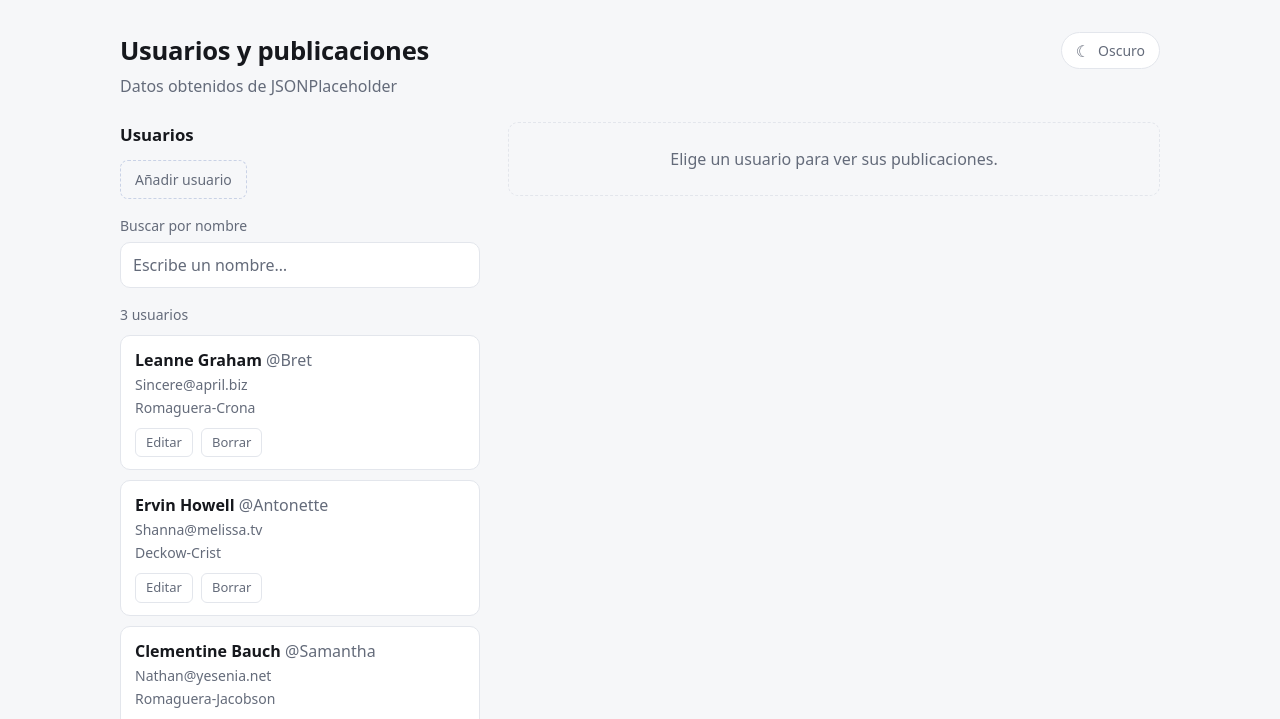
Test: App › conserva lo escrito y avisa si falla la creación
The image size is (1280, 719).
Click the button with aria-label "ver publicaciones de leanne graham" at (198, 360), box [135,348,465,418]
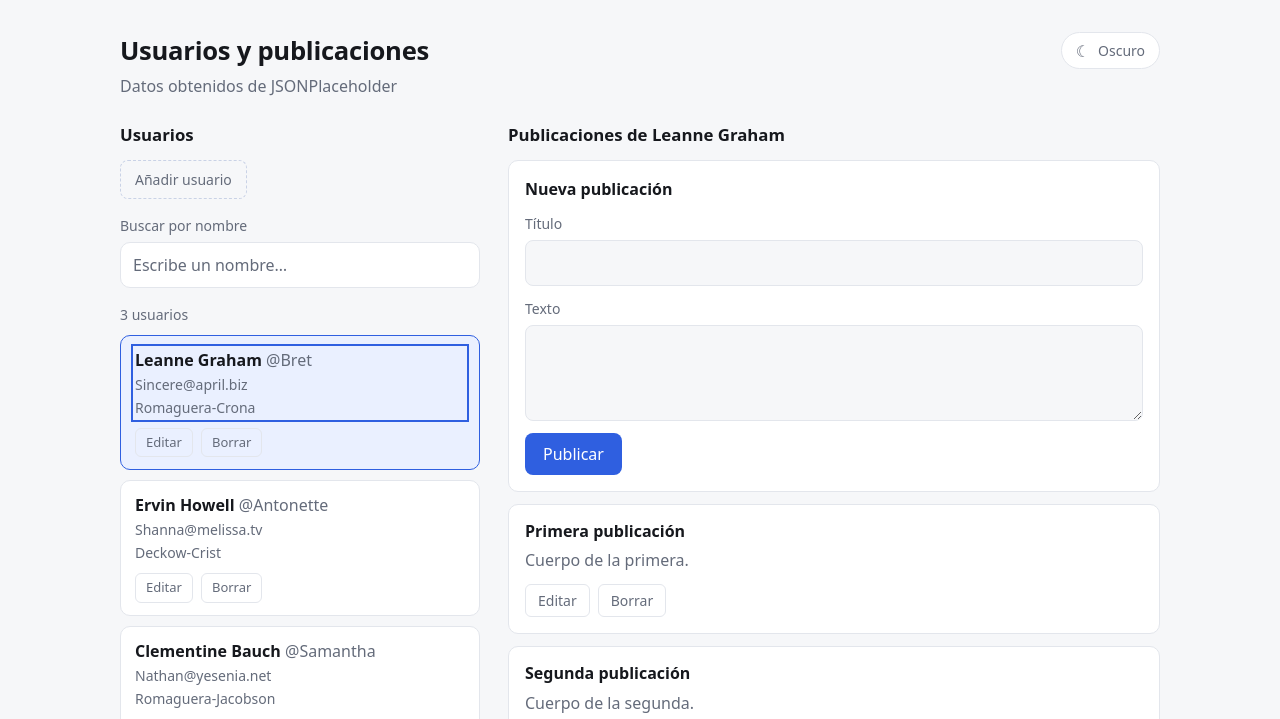
Check: the heading "Primera publicación" is shown, box [525,520,685,542]
Type "No se va a guardar" into the field labelled "Título" at (834, 263), box [525,240,1143,286]
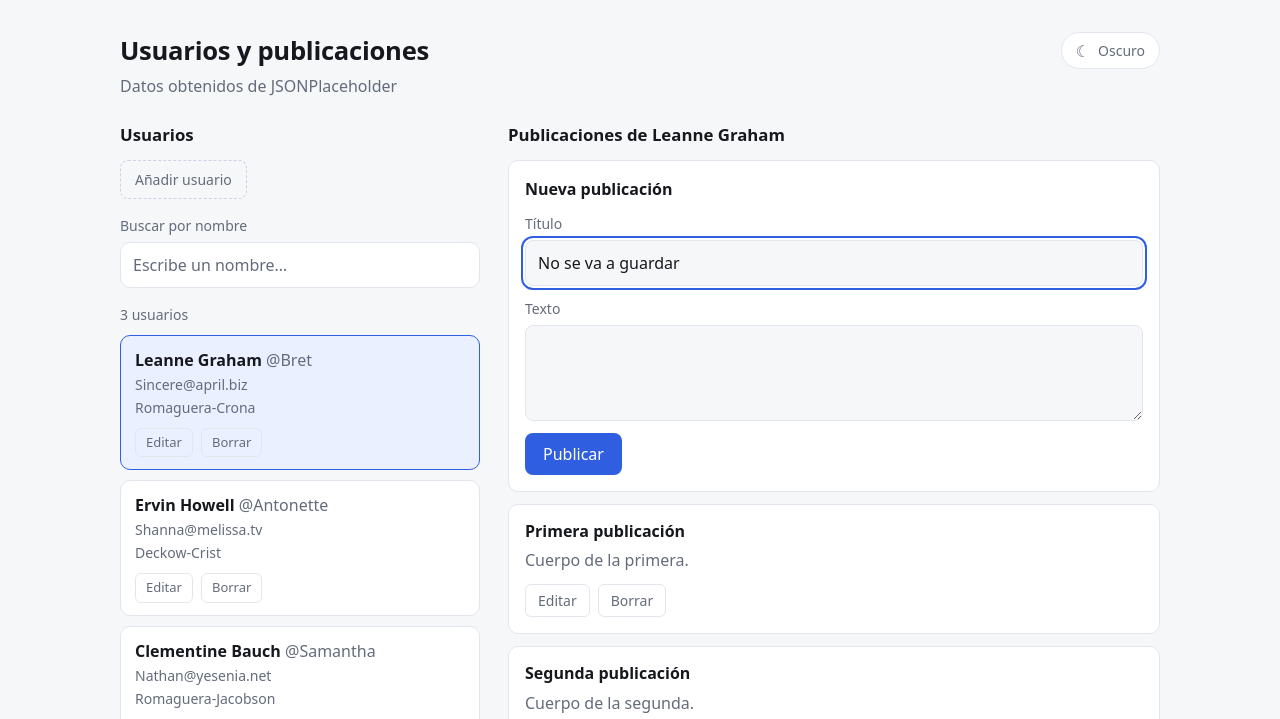
Type "Cuerpo" into the text box labelled "Texto" at (834, 373), box [525,325,1143,421]
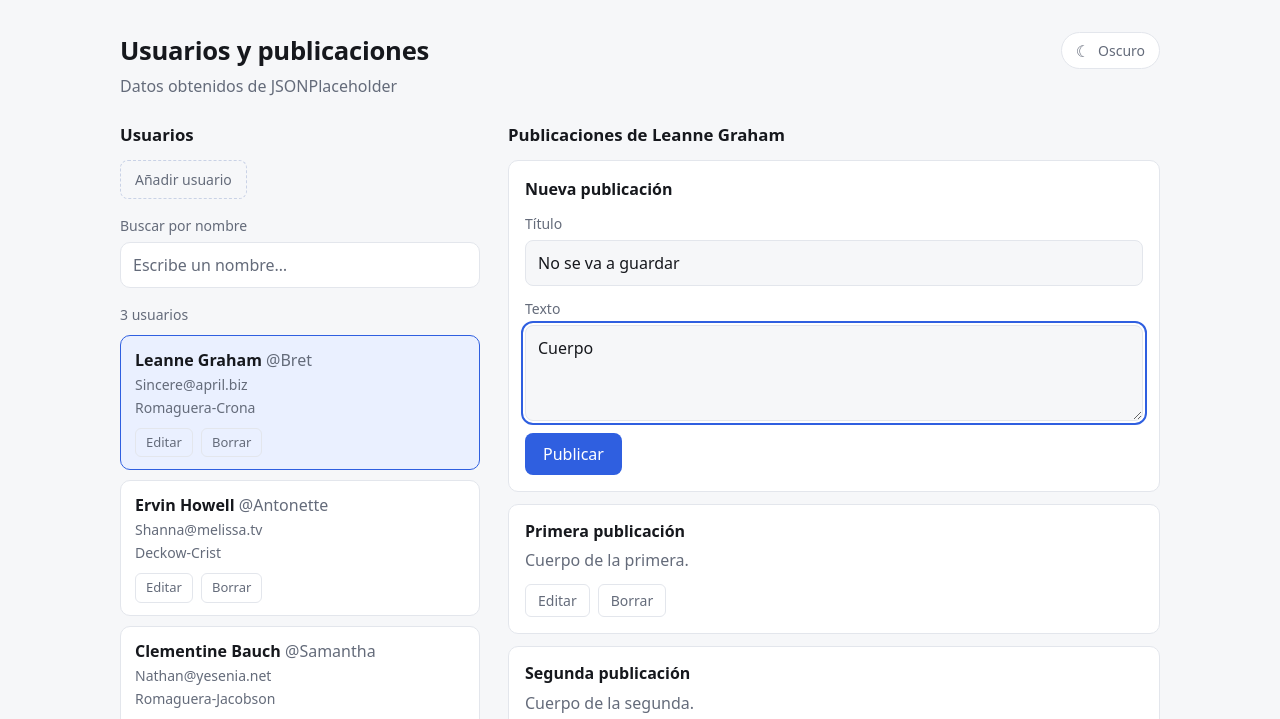
Click the button "Publicar" at (573, 454), box [525,433,622,475]
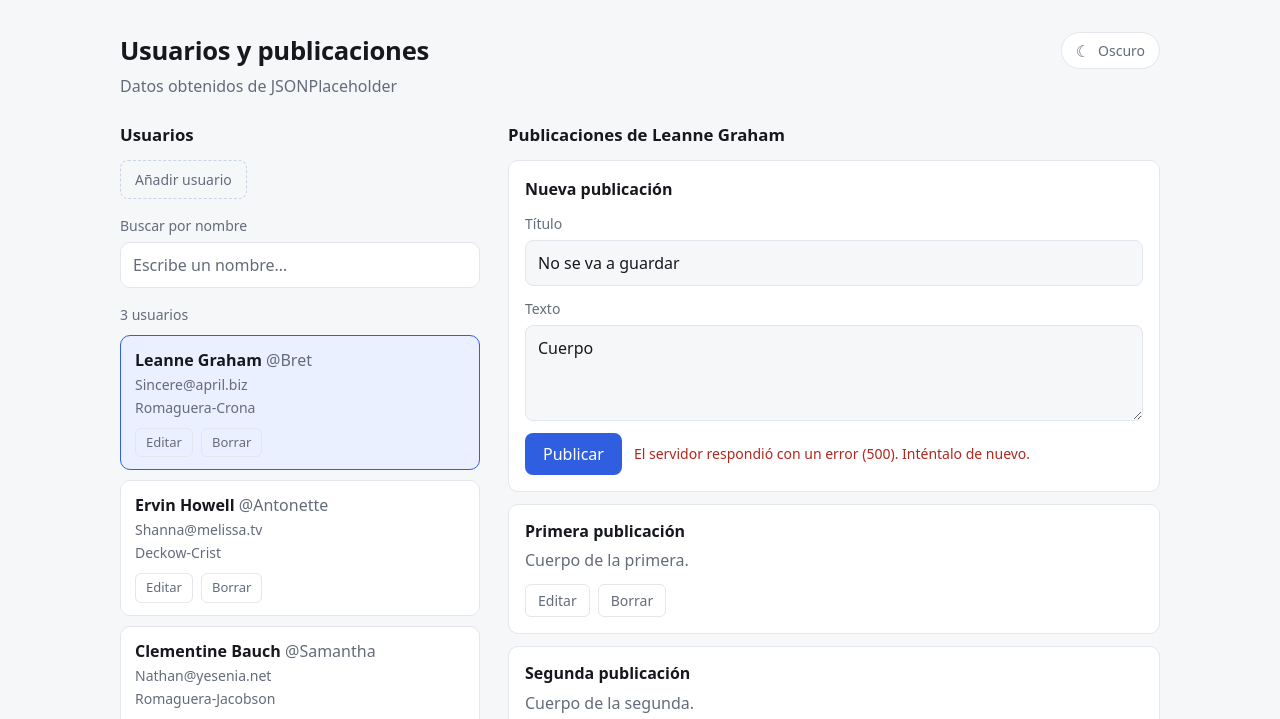
Check: the message shows "(500)", box [634,444,1030,463]
